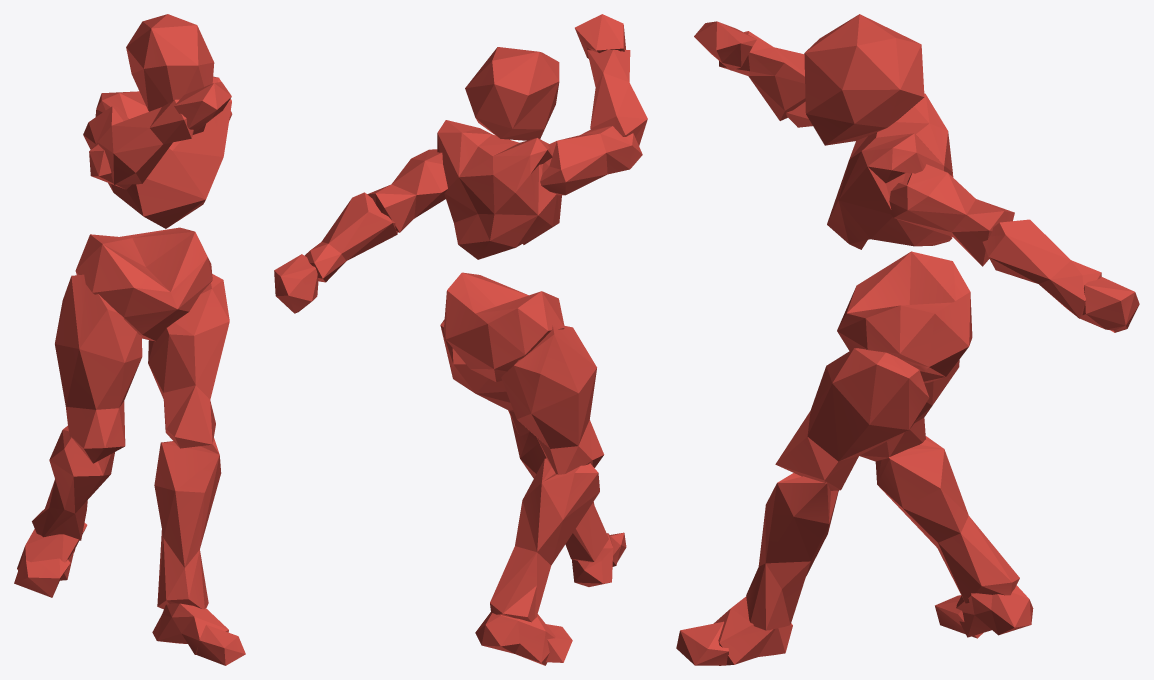
Rendered from 2dancer0174.obj.
3 views of the same model, side by side, from view 1: azimuth 30°, elevation 25°; view 2: azimuth 150°, elevation 25°; view 3: azimuth 270°, elevation 25° (orthographic). The views are drawn at different scales.
Parts seen in each view (by area): view 1: Beta_Surface; view 2: Beta_Surface; view 3: Beta_Surface.
Part boxes in pixels (x1=…): Beta_Surface: x1=14, y1=14, x2=245, y2=665; Beta_Surface: x1=274, y1=14, x2=647, y2=665; Beta_Surface: x1=676, y1=14, x2=1139, y2=665.
Size of the model in its own units: 0.7554 by 1.75 by 1.14.
